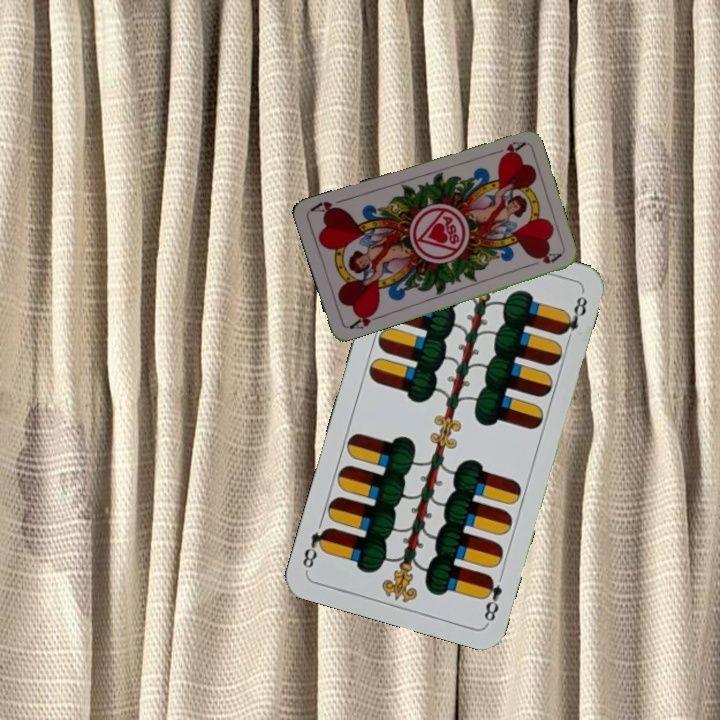E8: (478, 571, 505, 626)
HA: (345, 306, 384, 332), (487, 137, 527, 160)
